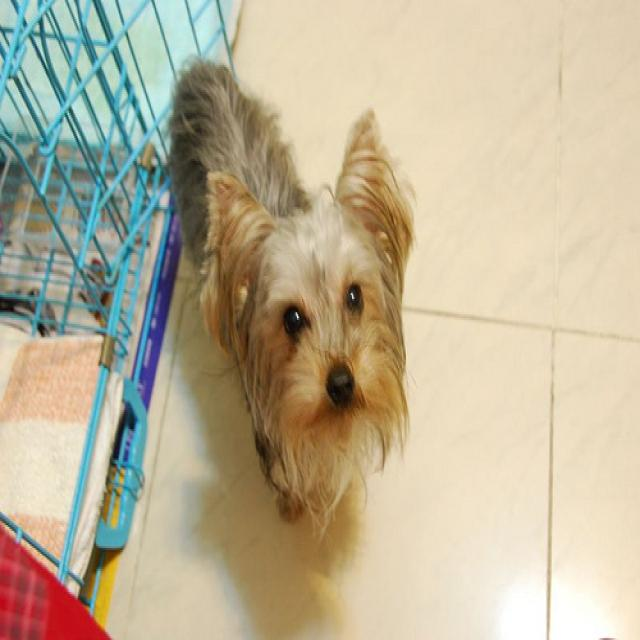dog-yorkshire_terrier: (155, 38, 417, 560)
